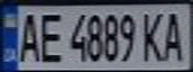4: (63, 9, 87, 63)
8: (84, 10, 106, 63), (103, 10, 121, 62)
9: (118, 10, 139, 63)
A: (12, 9, 42, 64), (160, 8, 190, 62)
E: (33, 9, 66, 64)
K: (139, 9, 166, 62)
